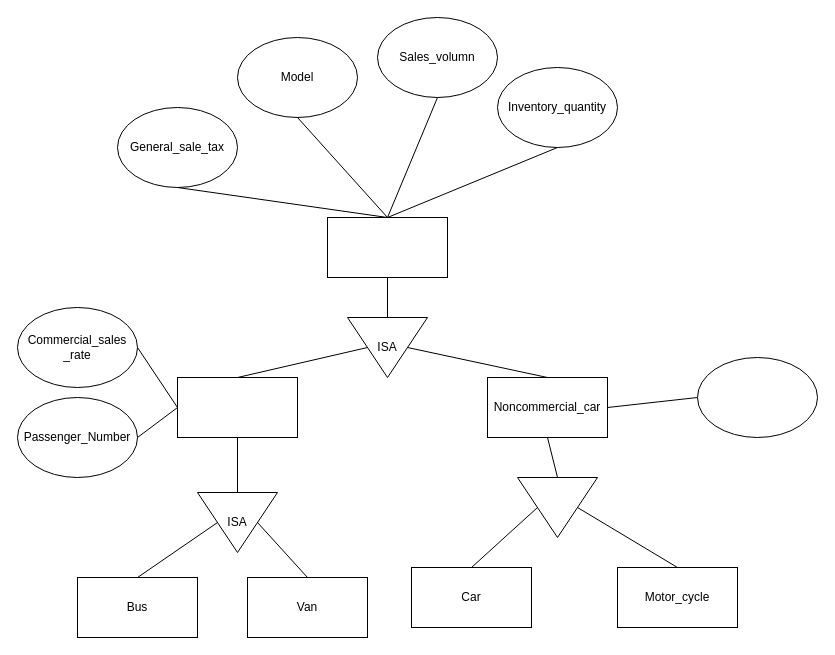
Some shapes in this 835 by 655 pixel diagram are drawn without their labels. The box of each missing label's shape, as (x1, y1, x2, y2) in pixels:
Commercial_car: (176, 376, 298, 438)
Noncommercial_ sales_rate: (696, 356, 818, 438)
Vehicle: (326, 216, 448, 278)
